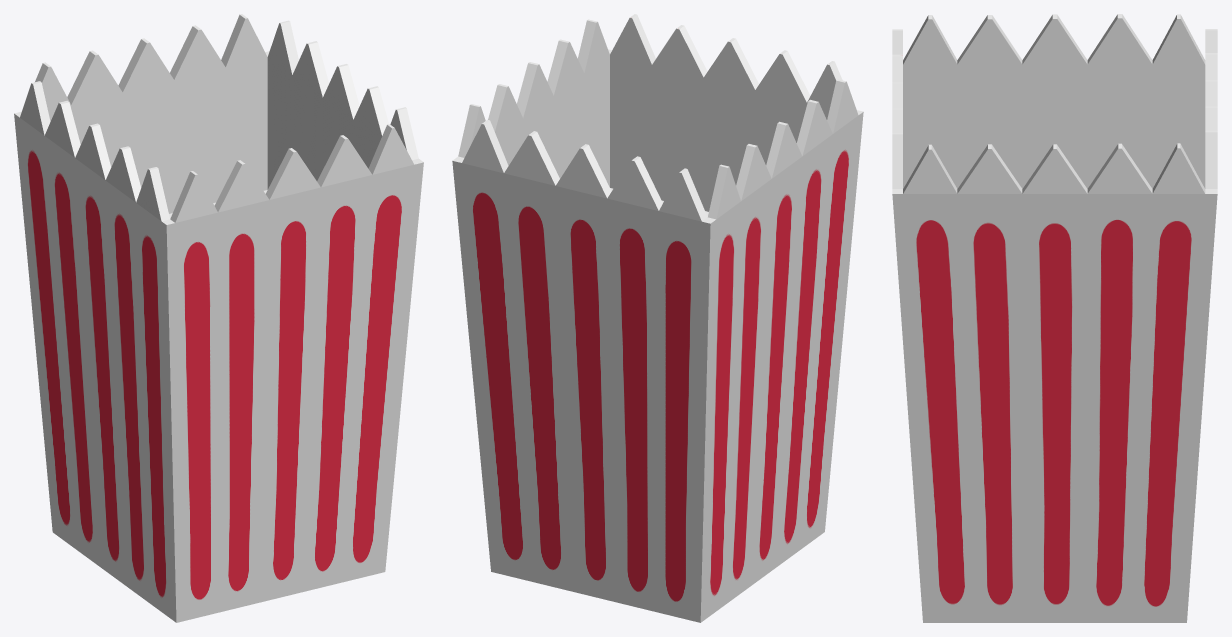
File: popcorn_box.fbx
The picture shows the model from 3 angles, left to right: view 1: azimuth 30°, elevation 25°; view 2: azimuth 150°, elevation 25°; view 3: azimuth 270°, elevation 25°; orthographic projection. The views are drawn at different scales.
Parts seen in each view (by area): view 1: box; view 2: box; view 3: box.
Boxes of the visible parts, box(x1,y1,x2,y2) form: box: box(14, 14, 423, 622); box: box(452, 14, 863, 622); box: box(892, 14, 1217, 622).
Bounding box in the file's own units: 77.42 × 132 × 79.51.
